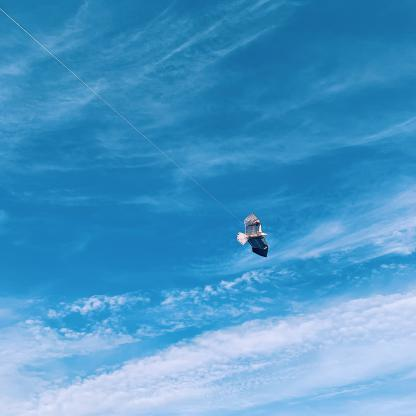bird: (235, 212, 271, 258)
